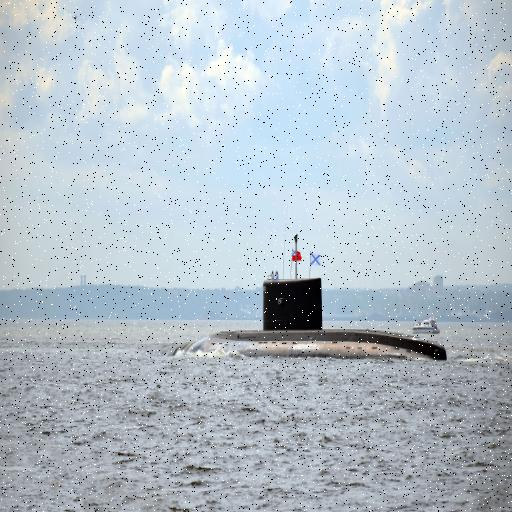submarine: (169, 273, 457, 364)
